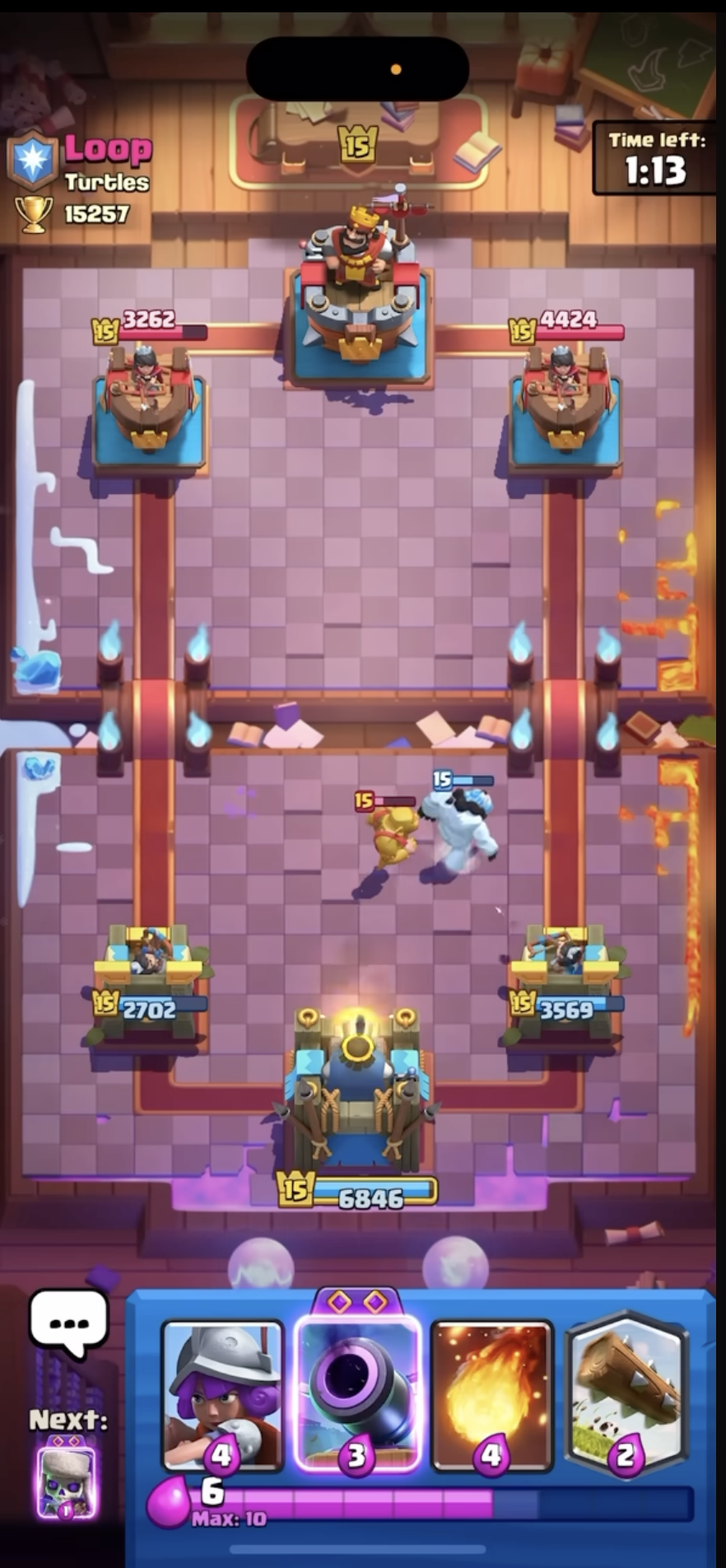brawler: (354, 775, 422, 874)
